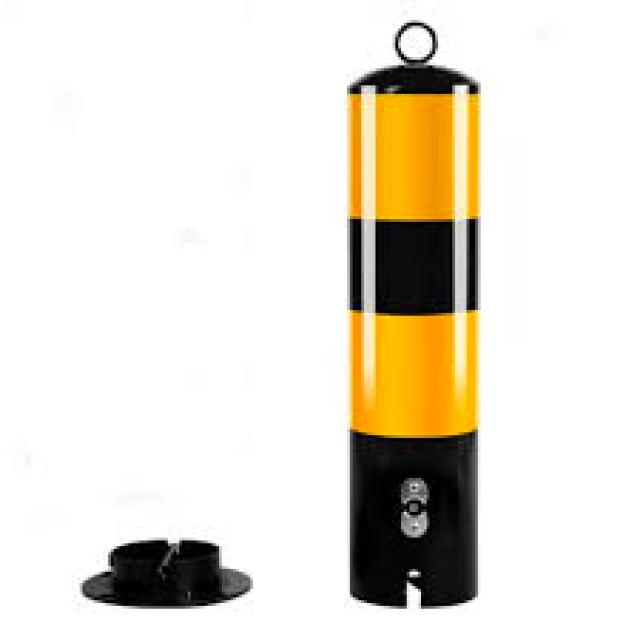bollard: (341, 16, 492, 602)
